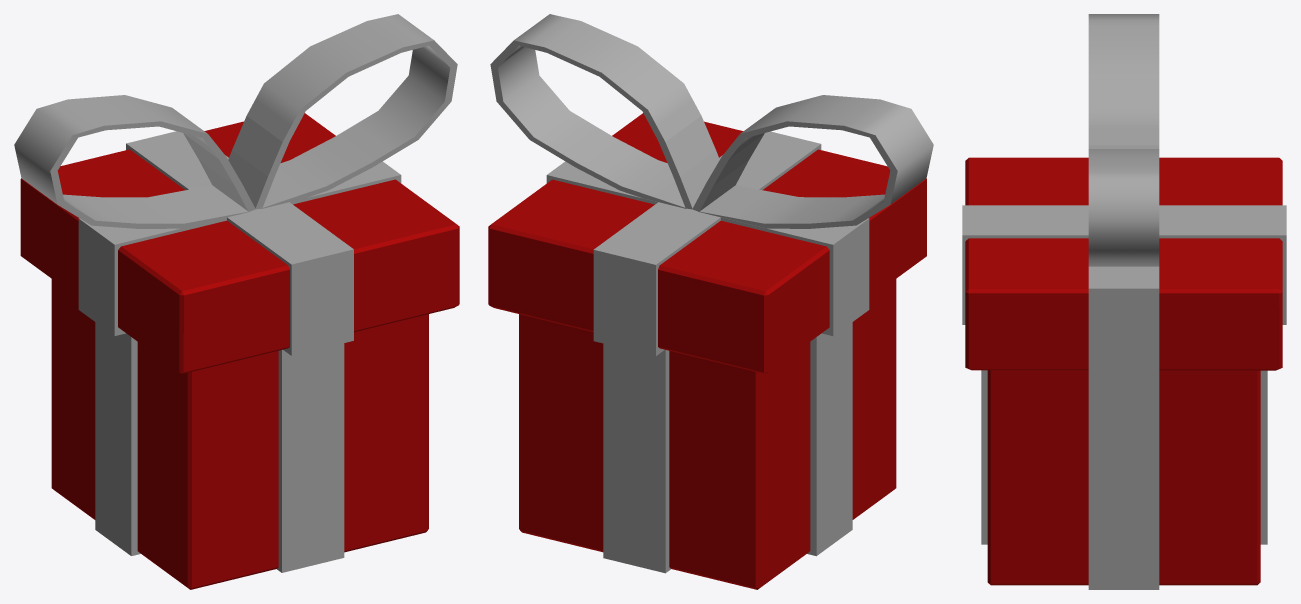
Rendered from Gift.fbx.
3 views of the same model, side by side, from view 1: azimuth 30°, elevation 25°; view 2: azimuth 150°, elevation 25°; view 3: azimuth 270°, elevation 25° (orthographic). The views are drawn at different scales.
Visible parts, largest first — view 1: polySurface6, polySurface8; view 2: polySurface6, polySurface8; view 3: polySurface6, polySurface8.
Part boxes in pixels (<box>): polySurface6: <box>20,113,459,589</box>; polySurface8: <box>14,14,457,572</box>; polySurface6: <box>488,113,926,589</box>; polySurface8: <box>490,14,933,573</box>; polySurface6: <box>965,157,1282,585</box>; polySurface8: <box>962,14,1286,589</box>.
Bounding box in the file's own units: 6.52 × 6.77 × 4.59.
